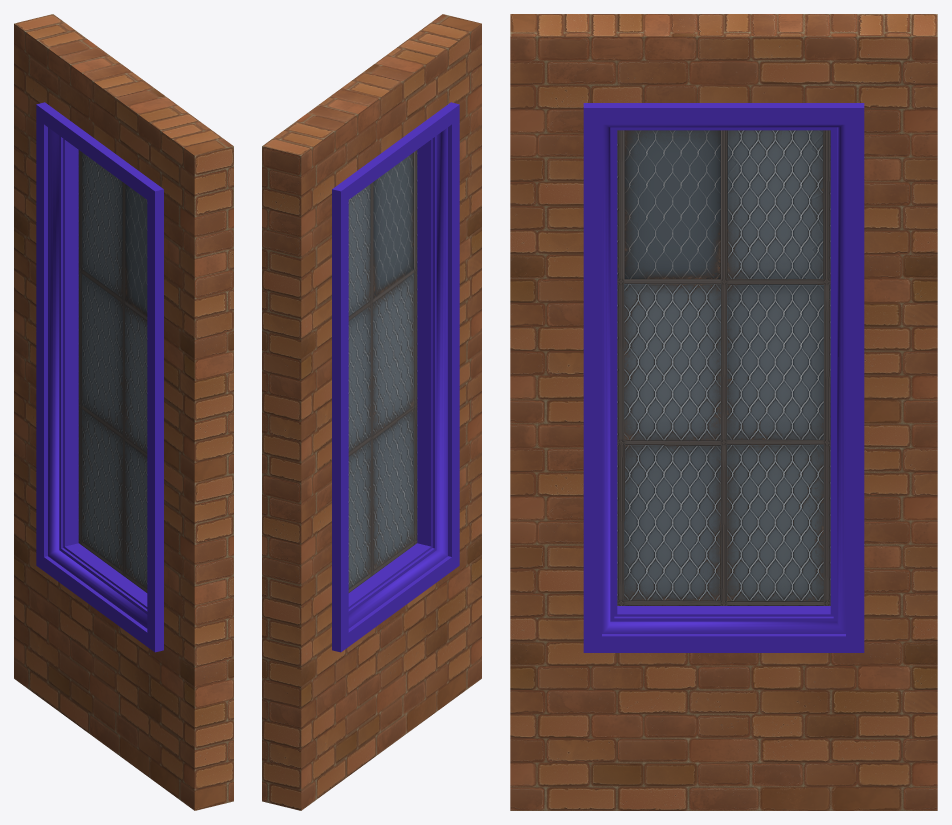
The model's file is WarehouseWindowSingle_SM.FBX.
The picture shows the model from 3 angles, left to right: view 1: azimuth 30°, elevation 25°; view 2: azimuth 150°, elevation 25°; view 3: azimuth 270°, elevation 25°; orthographic projection. The views are drawn at different scales.
Visible parts, largest first — view 1: WarehouseWindowSingle_SM, Loft001, Rectangle002; view 2: WarehouseWindowSingle_SM, Loft001, Rectangle002; view 3: WarehouseWindowSingle_SM, Rectangle002, Loft001.
Boxes of the visible parts, <box> form: WarehouseWindowSingle_SM: <box>14,14,233,810</box>; Loft001: <box>36,102,163,652</box>; Rectangle002: <box>78,150,147,592</box>; WarehouseWindowSingle_SM: <box>262,14,481,810</box>; Loft001: <box>332,102,459,652</box>; Rectangle002: <box>348,150,417,592</box>; WarehouseWindowSingle_SM: <box>510,14,937,810</box>; Rectangle002: <box>617,130,830,605</box>; Loft001: <box>583,103,864,652</box>.
Bounding box in the file's own units: 36.31 × 400 × 200.
